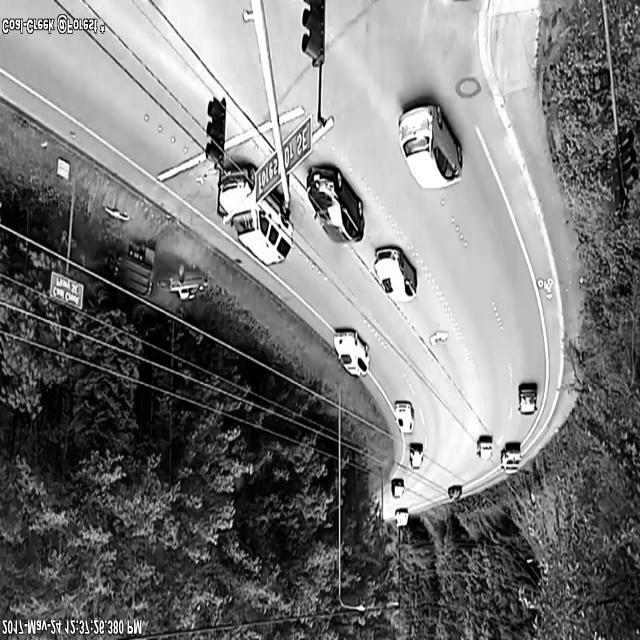moderate: (102, 232, 212, 332)
